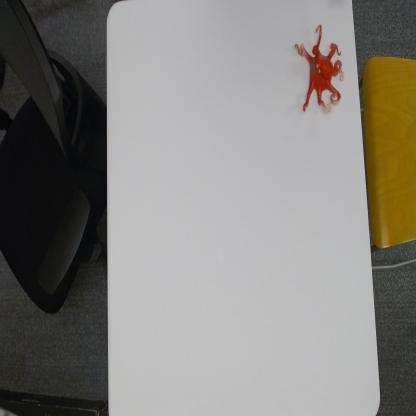Octopus: (292, 22, 345, 117)
